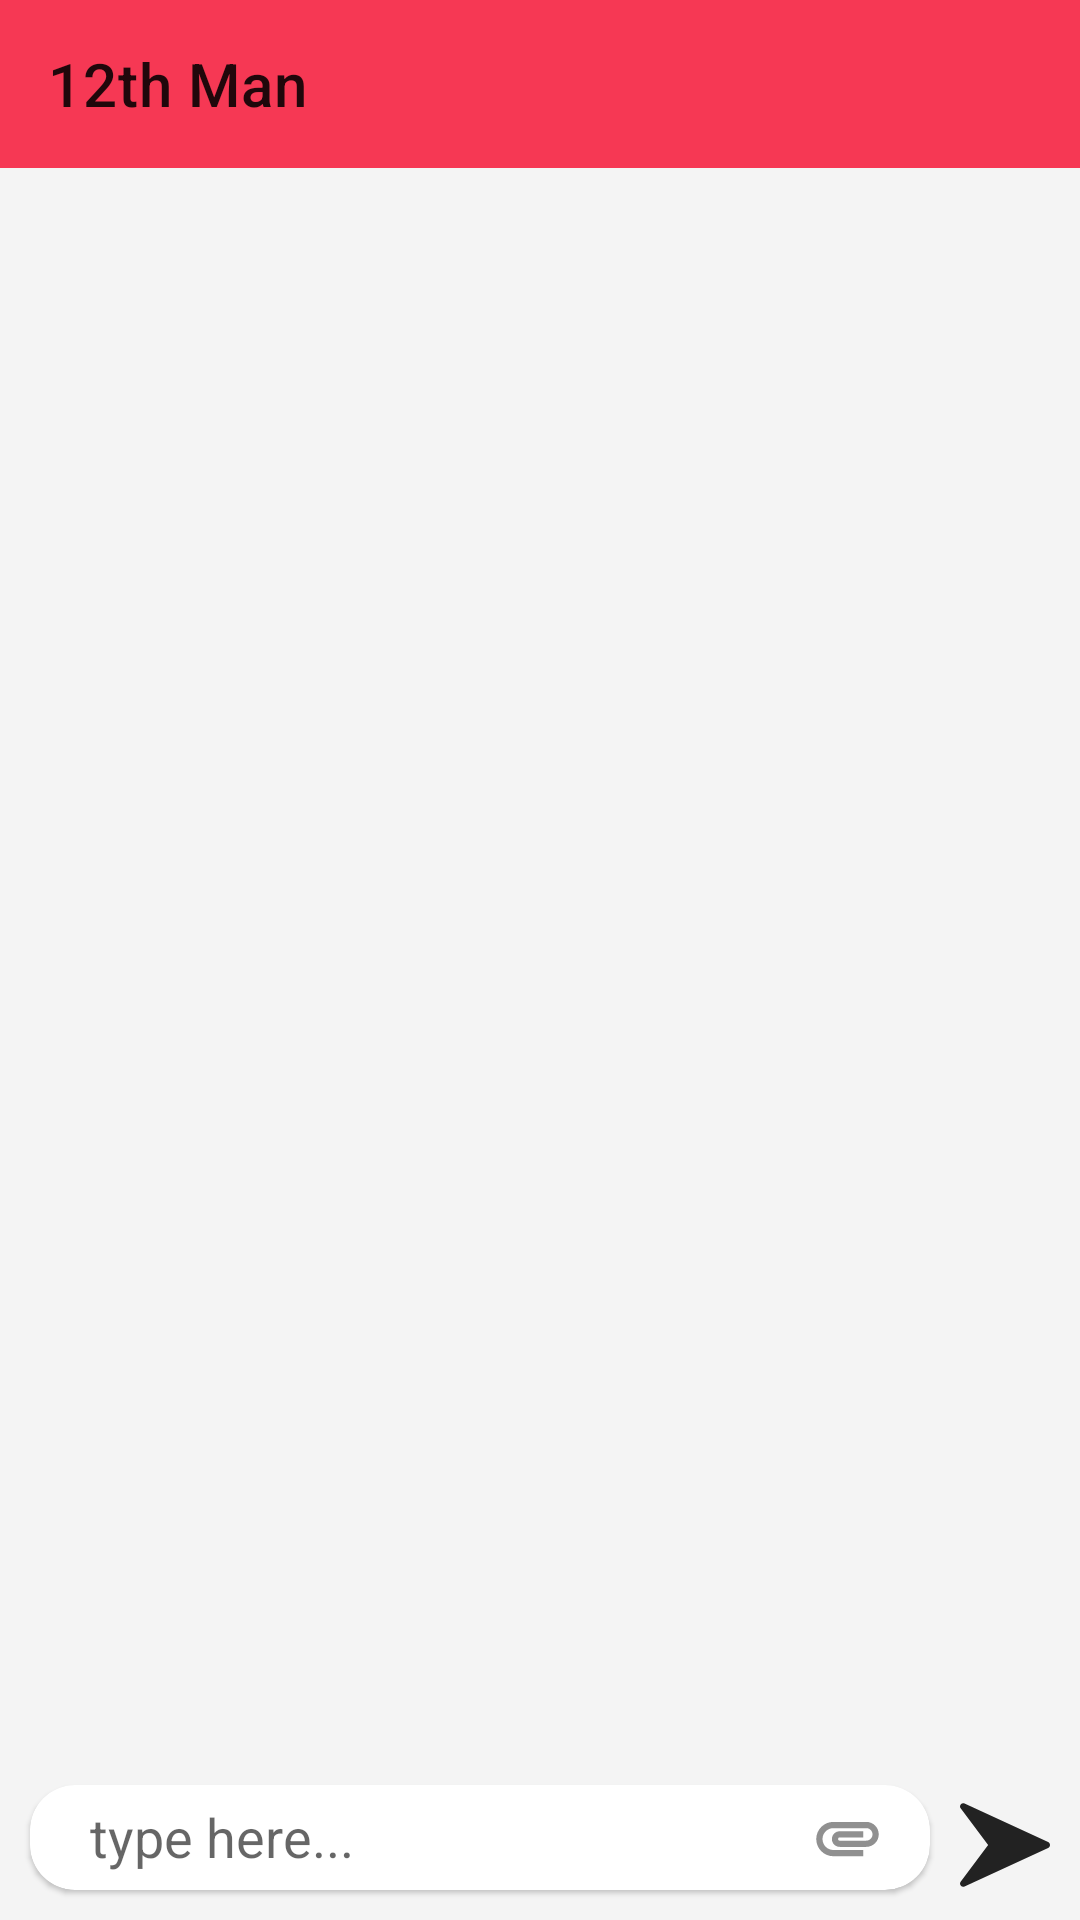

Point at icon controls on the screen. Image size 1080 × 1920, points as (x=x, y=y).
attachment: (x=847, y=1839)
right arrow: (x=1005, y=1845)
